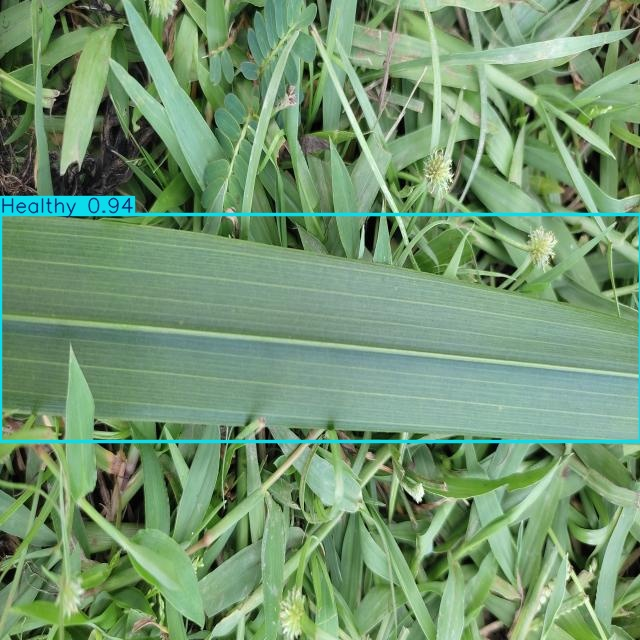Healthy: (0, 214, 640, 442)
